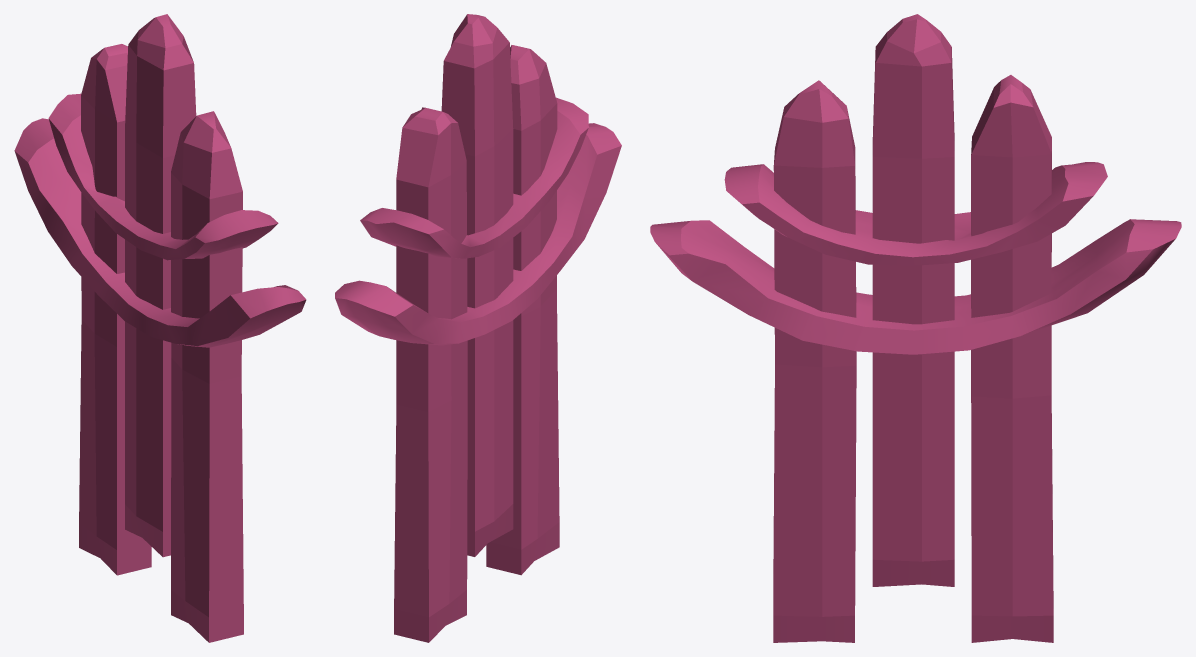
File: arena_Ornement.fbx
The picture shows the model from 3 angles, left to right: view 1: azimuth 30°, elevation 25°; view 2: azimuth 150°, elevation 25°; view 3: azimuth 270°, elevation 25°; orthographic projection. The views are drawn at different scales.
Parts seen in each view (by area): view 1: Arena_Ornement; view 2: Arena_Ornement; view 3: Arena_Ornement.
Part boxes in pixels (x1,y1,x2,y2): Arena_Ornement: [14, 14, 306, 642]; Arena_Ornement: [335, 14, 621, 642]; Arena_Ornement: [650, 14, 1181, 642].
Bounding box in the file's own units: 3.22 × 22.59 × 17.59.
